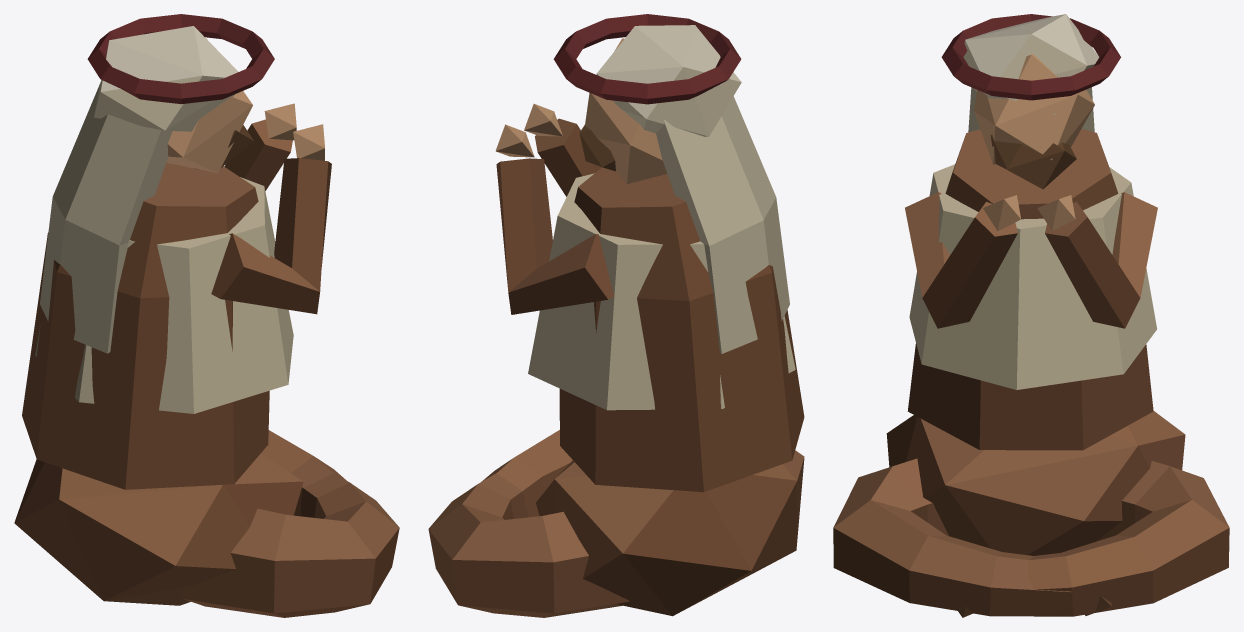
Rendered from shepherd.glb.
The picture shows the model from 3 angles, left to right: view 1: azimuth 30°, elevation 25°; view 2: azimuth 150°, elevation 25°; view 3: azimuth 270°, elevation 25°; orthographic projection. The views are drawn at different scales.
Visible parts, largest first — view 1: base, head_m; view 2: base, head_m; view 3: base, head_m.
Part boxes in pixels (x1,y1,x2,y2): base: [14, 103, 399, 617]; head_m: [40, 14, 274, 353]; base: [428, 104, 804, 617]; head_m: [553, 14, 789, 353]; base: [833, 129, 1229, 617]; head_m: [941, 14, 1120, 189].
Size of the model in its own units: 0.259 by 0.4265 by 0.2911.
